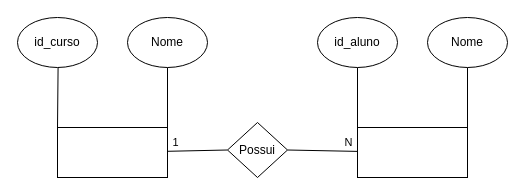
Image size: 525x195. Some labels were removed from this diagram. The shapes that lost their labels are listed below. From the top down, each one's centre as x and y in pixels, then its label:
the point at 112,152: Curso
the point at 412,152: Aluno
